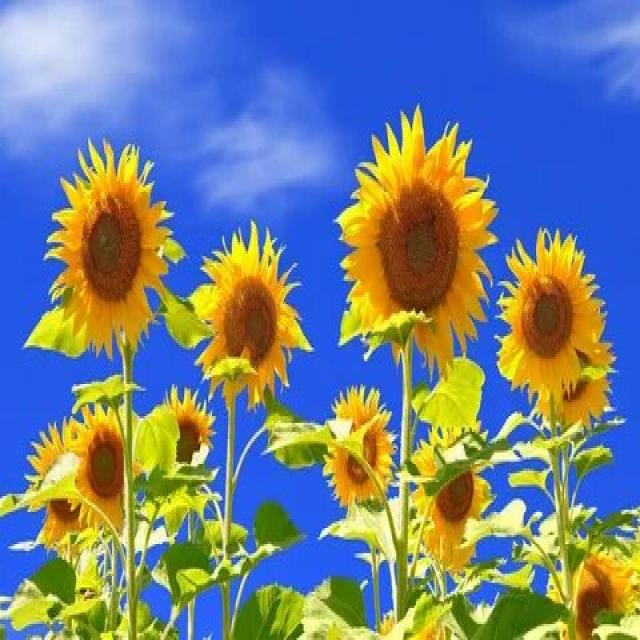sunflower: (333, 96, 499, 400), (39, 128, 176, 373), (185, 213, 319, 425), (497, 215, 607, 430), (321, 379, 395, 526), (64, 398, 139, 532)
